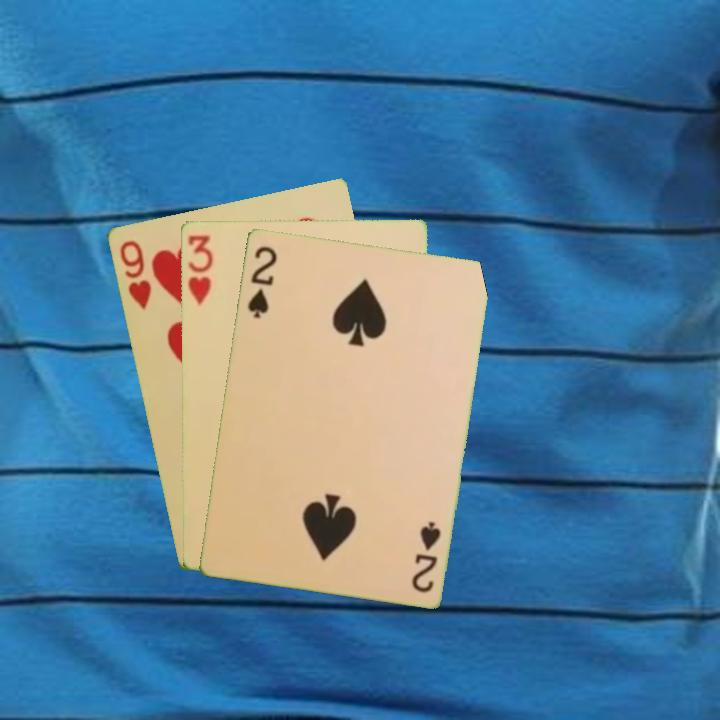2s: (244, 242, 280, 321), (408, 517, 444, 595)
3h: (184, 231, 215, 307)
9h: (115, 236, 154, 312)
